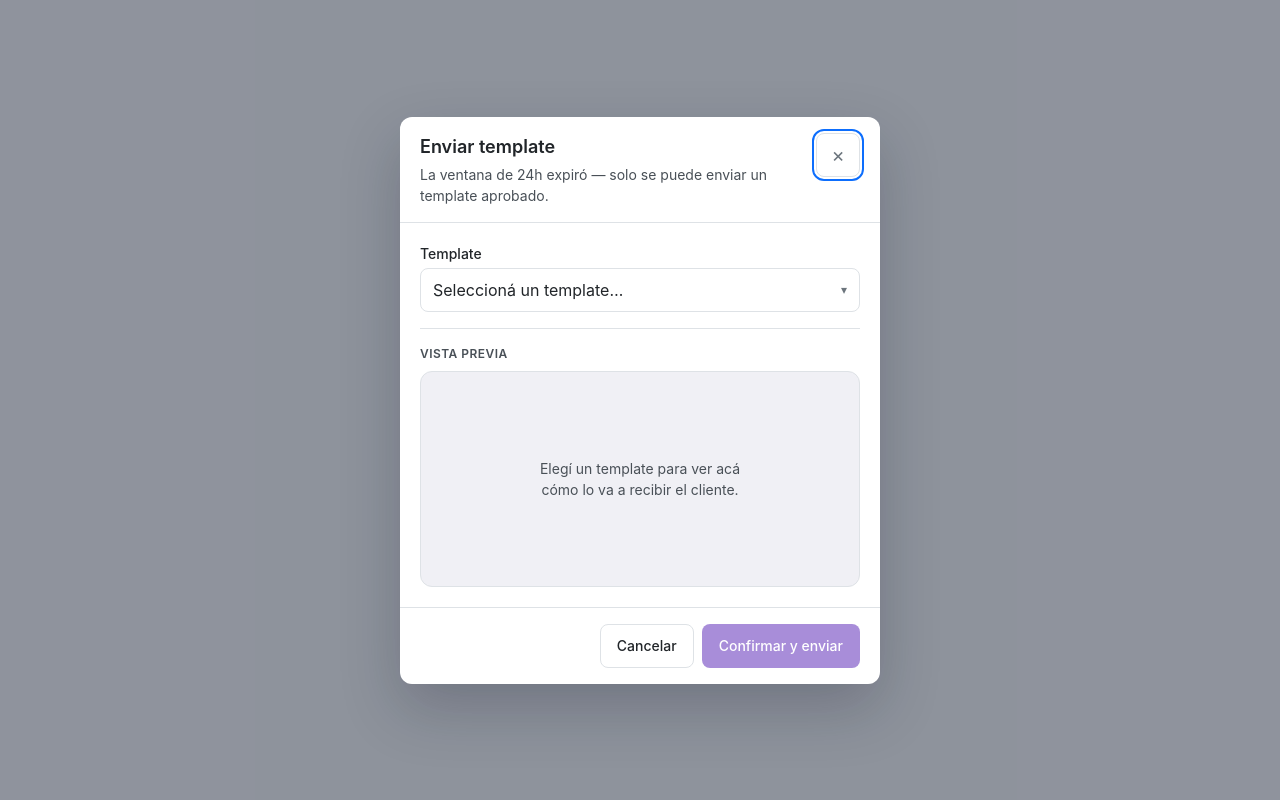
PICK-1: catálogo — 4 ramas › success (con approved) → combobox listando SOLO sendable===true
Click the dropdown labelled "Seleccioná un template… ▾".
click(528, 290)  # box [420,268,860,312]
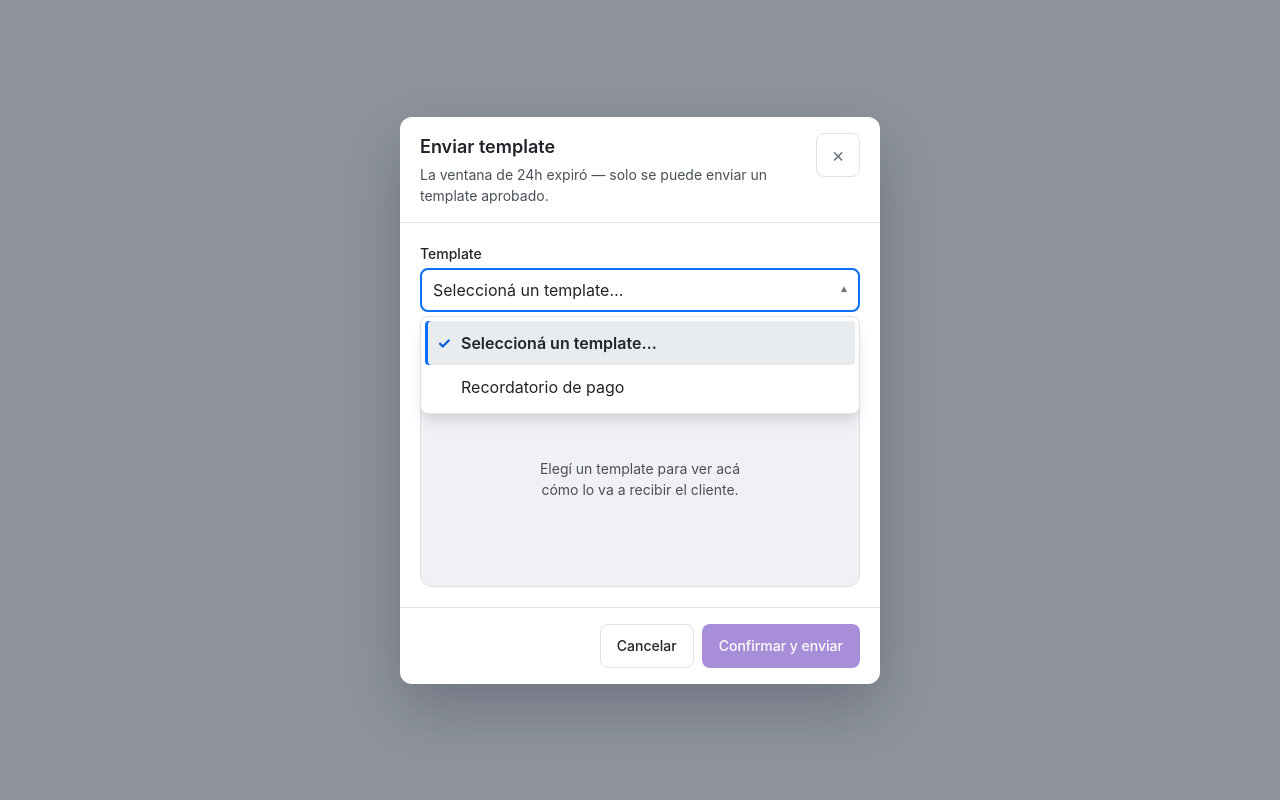
Now the option "Recordatorio de pago" is shown, box [461,376,624,396]
